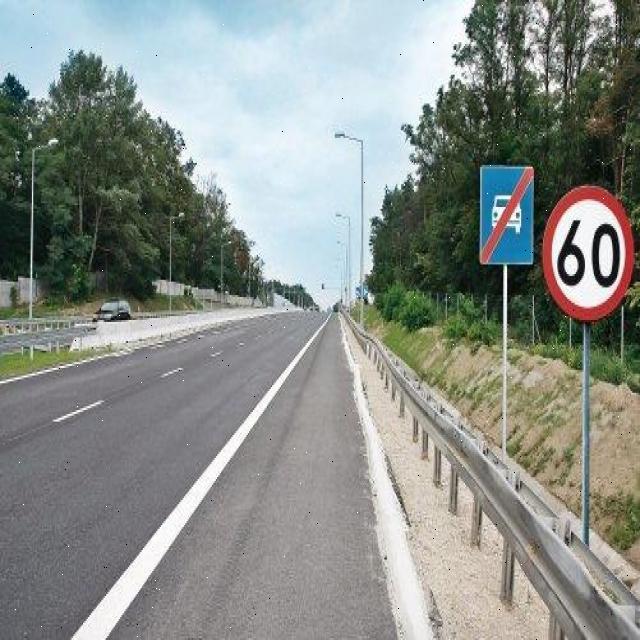speed limit 60: (541, 187, 636, 321)
